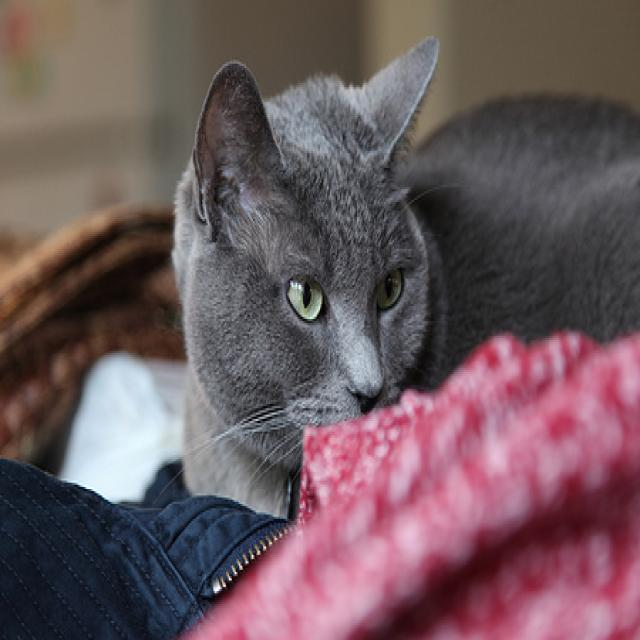Russian Blue: (169, 32, 640, 536)
